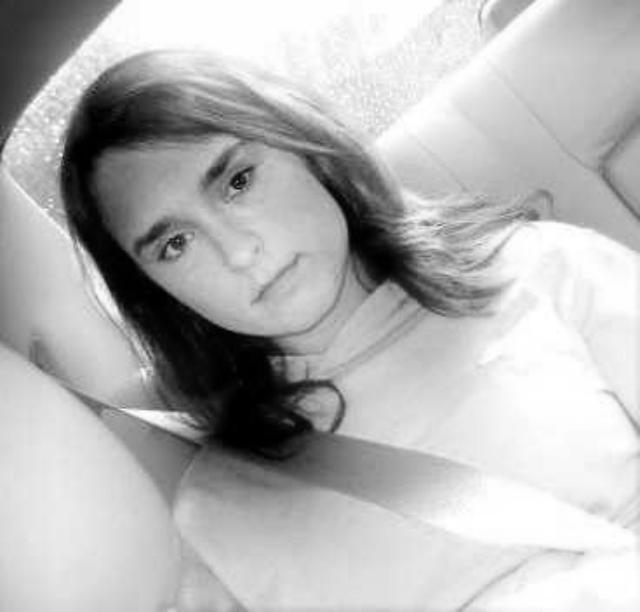SafeDriving: (144, 214, 208, 274), (217, 154, 260, 204)
Seatbelt: (46, 376, 640, 560)
